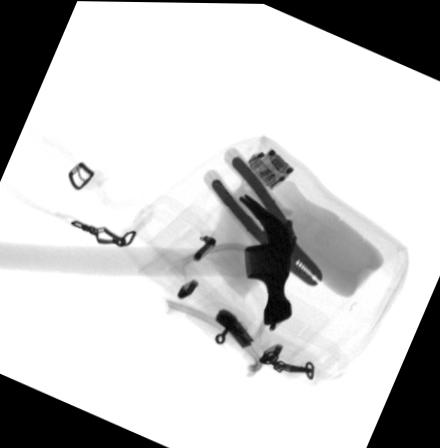Hammer: (0, 192, 291, 323)
Pliers: (201, 146, 321, 284)
